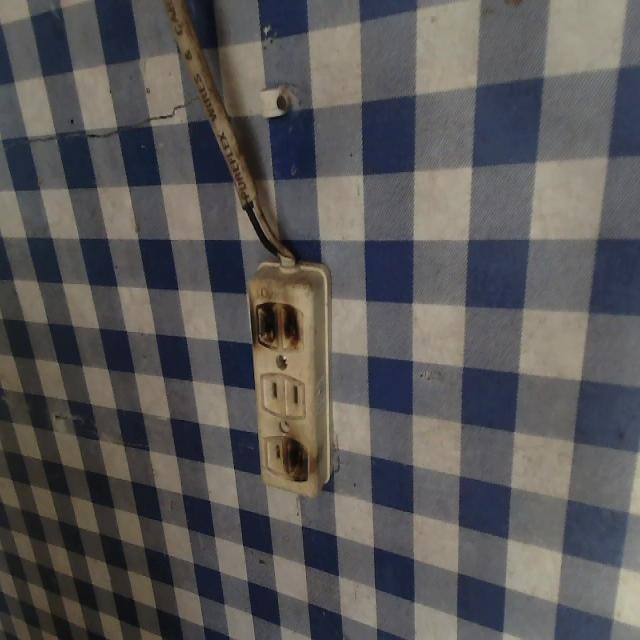-: (246, 296, 308, 355), (279, 430, 312, 482)
